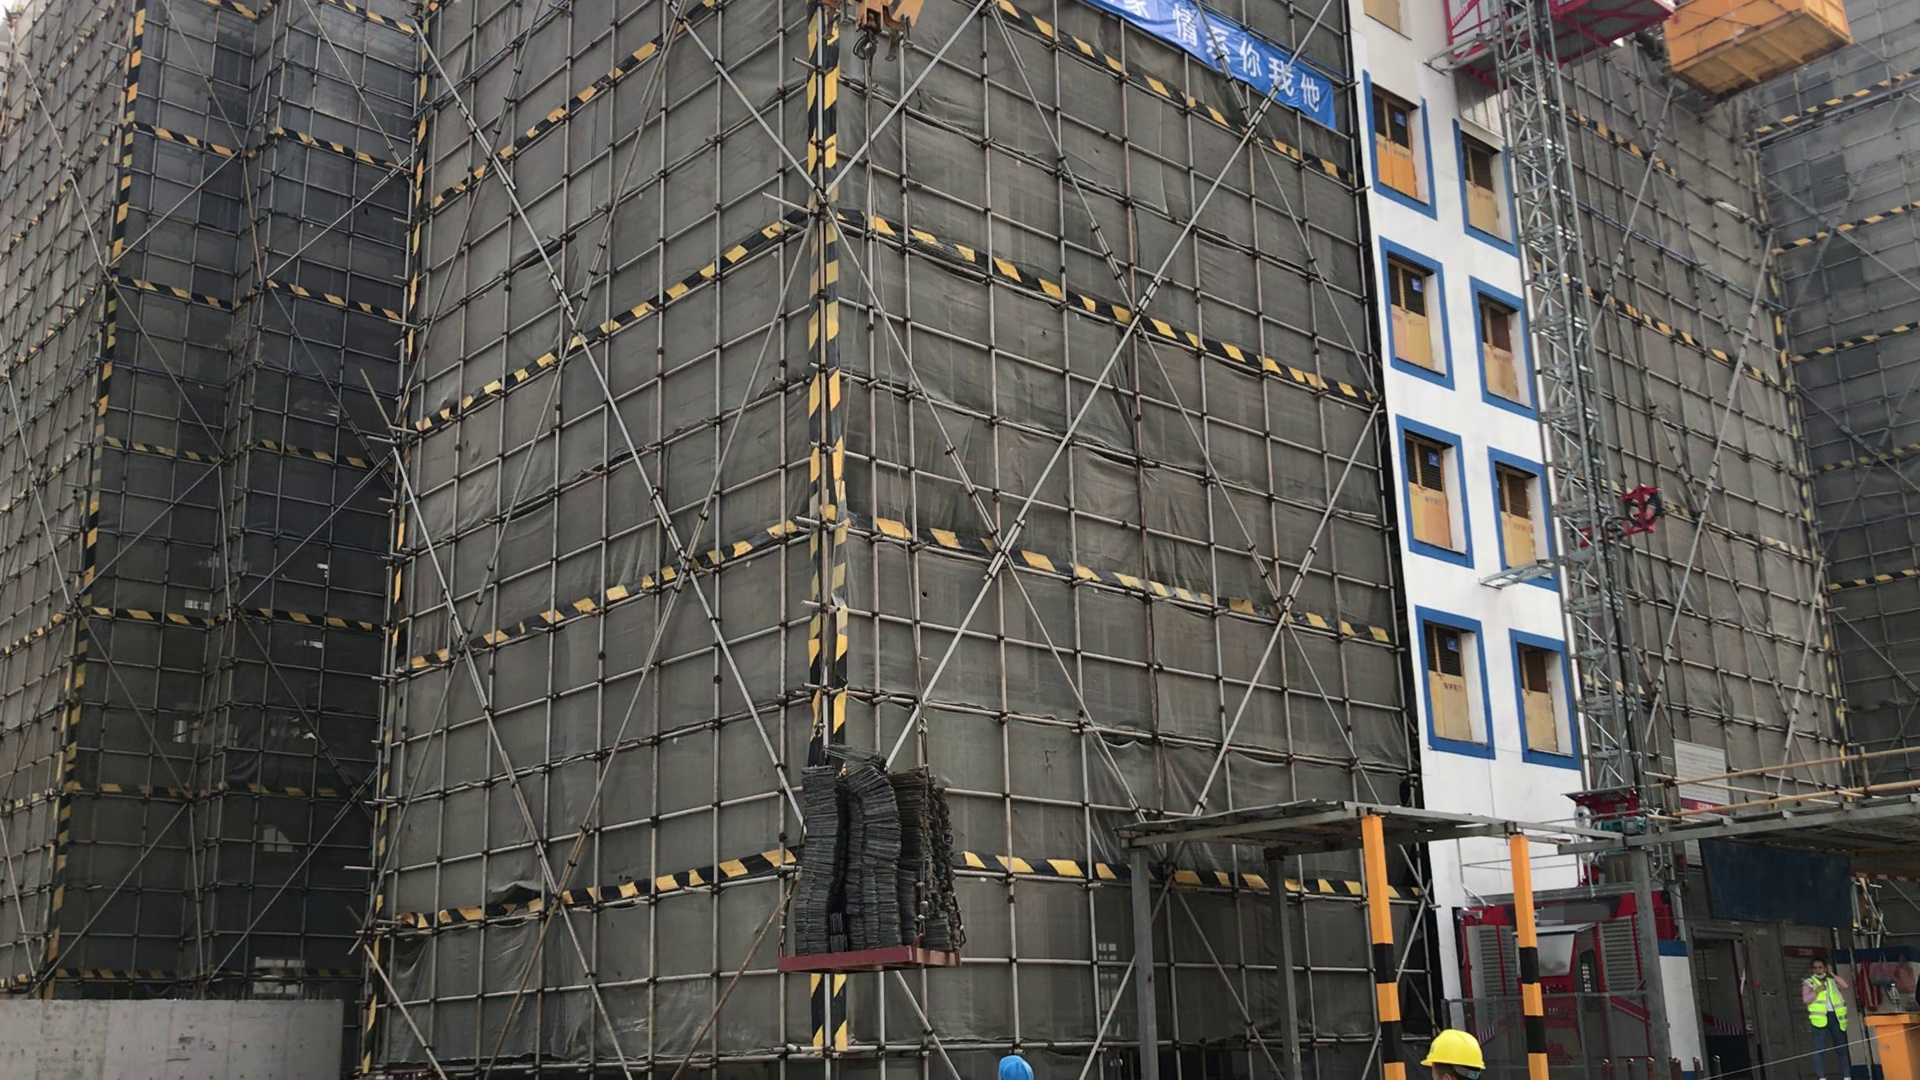helmet: (1420, 1031, 1484, 1066), (996, 1053, 1040, 1080)
person: (1799, 961, 1851, 1075), (1415, 1027, 1487, 1080)
slogan: (1098, 9, 1348, 125)
vest: (1808, 977, 1847, 1031)
